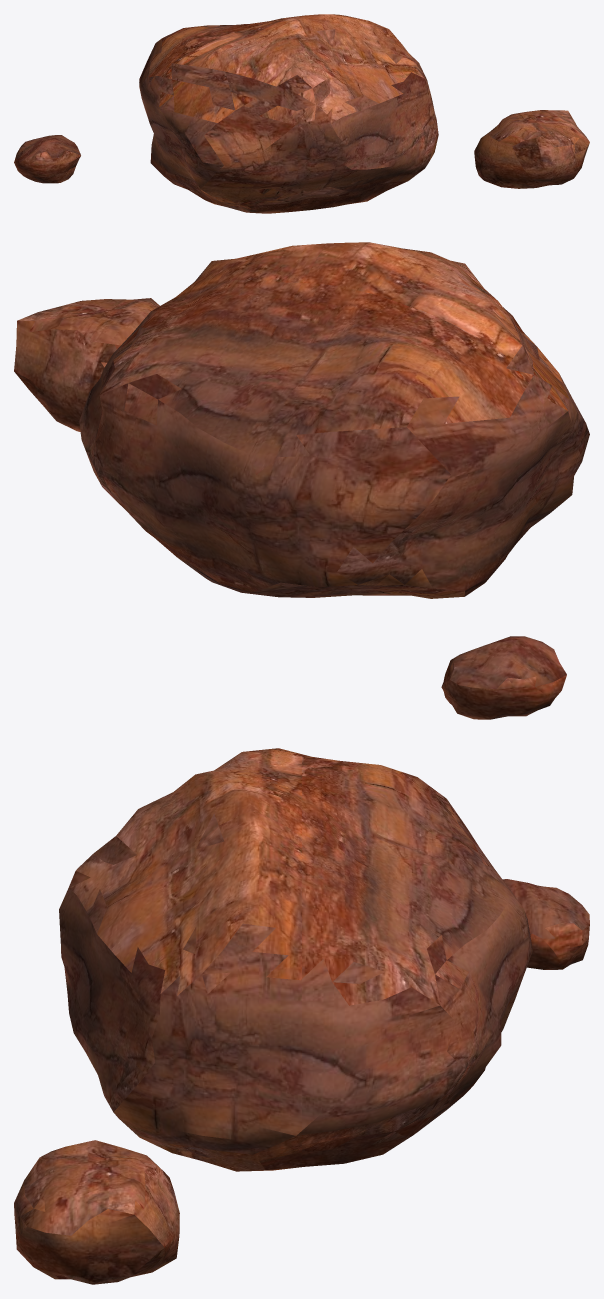
Rendered from rock_05_red.glb.
3 views of the same model, one above another, from view 1: azimuth 30°, elevation 25°; view 2: azimuth 150°, elevation 25°; view 3: azimuth 270°, elevation 25° (orthographic). The views are drawn at different scales.
Visible parts, largest first — view 1: rock_05_red; view 2: rock_05_red; view 3: rock_05_red.
Part boxes in pixels (x1,y1,x2,y2): rock_05_red: [14, 14, 589, 213]; rock_05_red: [14, 242, 589, 719]; rock_05_red: [14, 748, 589, 1284].
Bounding box in the file's own units: 4.4 × 1.67 × 2.86.
1 material, 1 textured.
